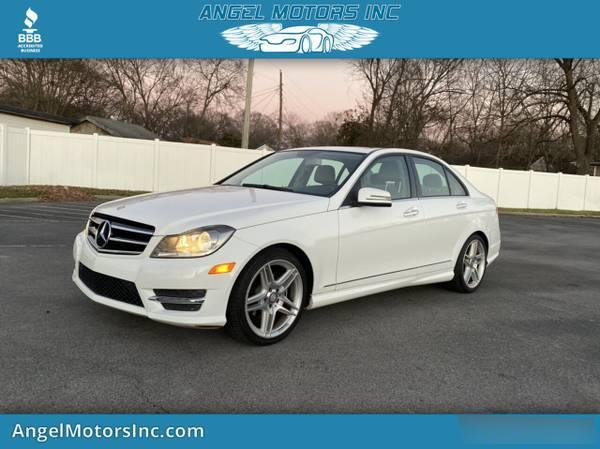Front_Bumper: (70, 232, 260, 328)
Front_Fender: (233, 212, 338, 310)
Front_Left_Door: (336, 198, 419, 302)
Front_Left_Window: (339, 156, 417, 210)
Front_Windshield: (217, 148, 366, 199)
Grille: (85, 209, 154, 256)
Hood: (96, 185, 330, 235)
Left_Headlight: (152, 222, 237, 257)
Rear_Bumper: (487, 243, 500, 263)
Rear_Fender: (470, 194, 500, 245)
Rear_Left_Door: (417, 196, 474, 286)
Rear_Left_Window: (410, 156, 469, 196)
Roof: (282, 145, 484, 210)
Wheel: (234, 249, 309, 341), (456, 237, 487, 288)
